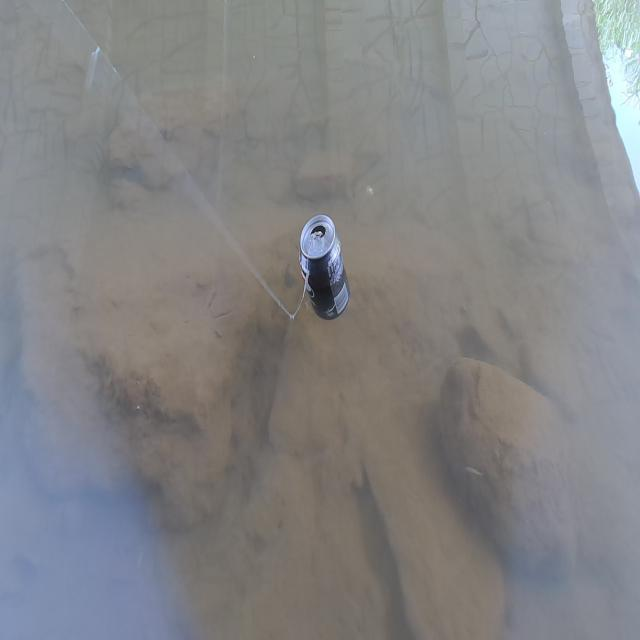garbage: (298, 212, 350, 320)
